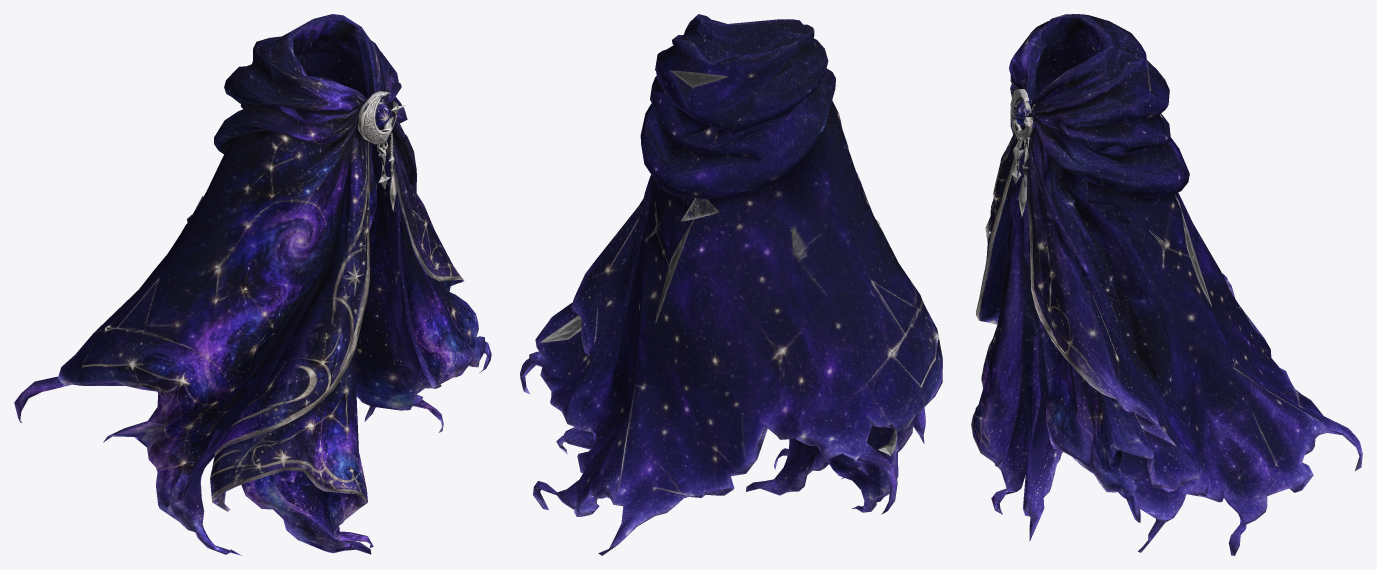
Rendered from named-voidwoven_mantle.glb.
3 views of the same model, side by side, from view 1: azimuth 30°, elevation 25°; view 2: azimuth 150°, elevation 25°; view 3: azimuth 270°, elevation 25° (orthographic). The views are drawn at different scales.
Size of the model in its own units: 1.75 by 2 by 1.42.
1 material, 1 textured.
